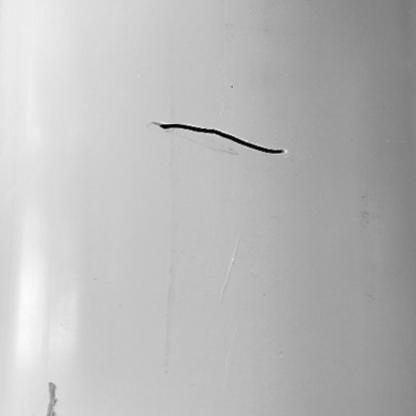fengxi: (157, 120, 287, 156)
sunshang: (44, 379, 59, 416)
